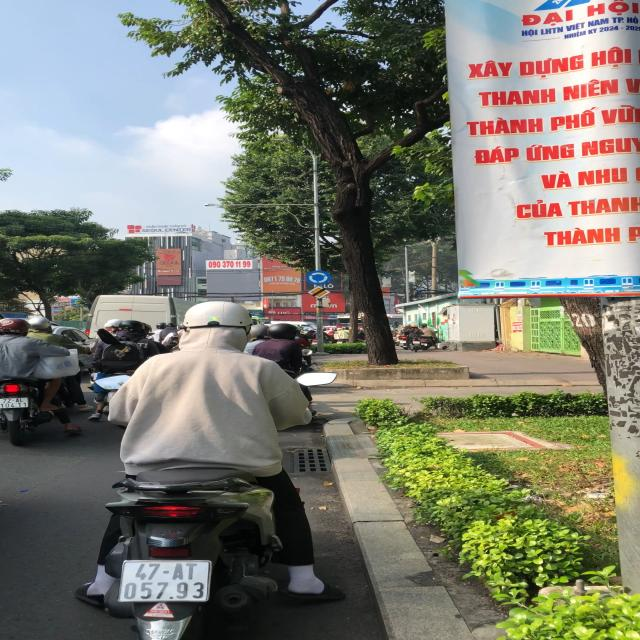Bien bao noi giao nhau chay theo vong xuyen: (305, 269, 332, 285)
